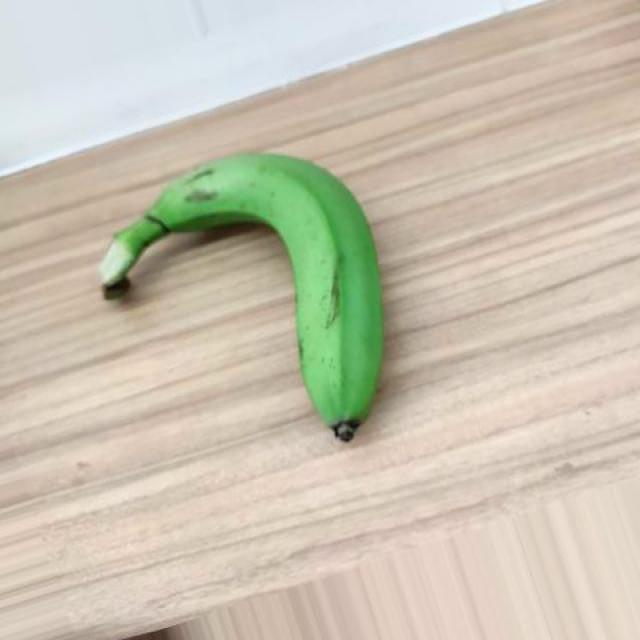Unripe: (99, 151, 383, 443)
